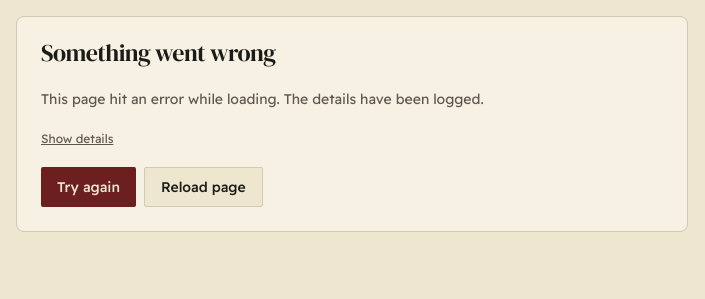
ErrorBoundary — the details disclosure › reveals the raw message when expanded
Click the button "Show details". click: [77, 139]
box: [41,131,113,147]
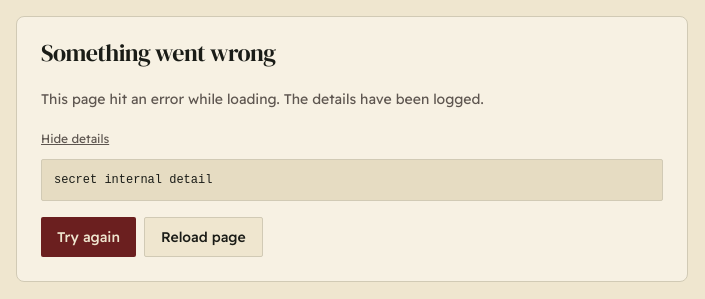
Expected: the text "secret internal detail" is shown, [41,159,663,201]
Expected: the button "Hide details" is shown, [41,131,109,147]
